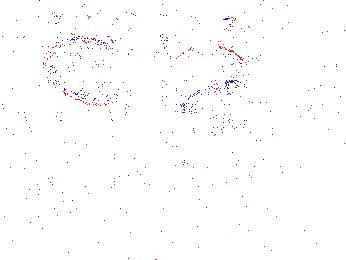moon jellyfish: (91, 41, 180, 128), (161, 45, 250, 120), (42, 38, 130, 107), (244, 48, 331, 88)
